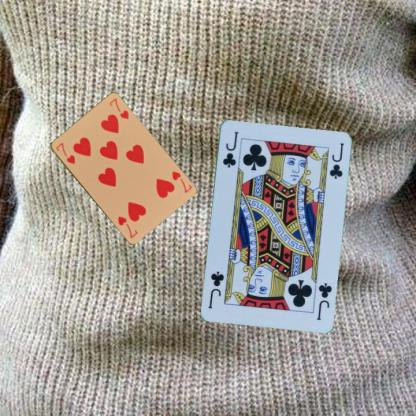7h: (169, 169, 193, 194), (53, 140, 76, 165)
Jc: (220, 128, 239, 169), (314, 280, 333, 321)
